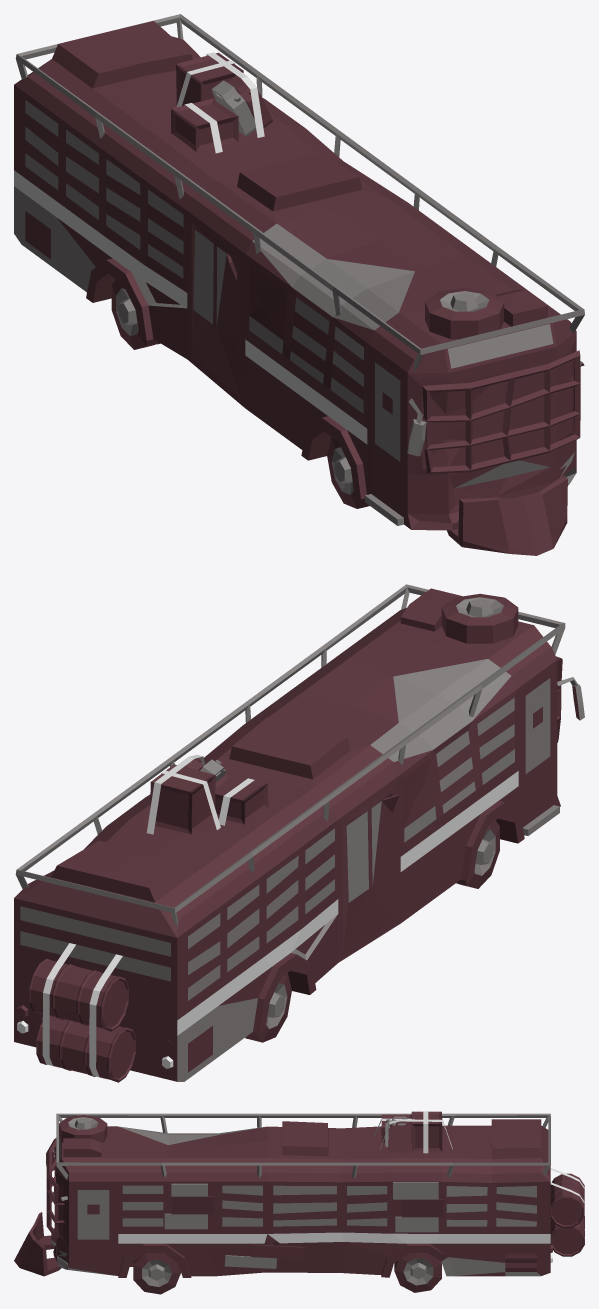
File: apocalypse-bus-passenger-apocalypse.glb
The picture shows the model from 3 angles, top to bottom: view 1: azimuth 30°, elevation 25°; view 2: azimuth 150°, elevation 25°; view 3: azimuth 270°, elevation 25°; orthographic projection. The views are drawn at different scales.
Visible parts, largest first — view 1: bus-passenger-apocalypse-base, bus-passenger-apocalypse-props, bus-passenger-apocalypse-wheel_BR, bus-passenger-apocalypse-wheel_FR; view 2: bus-passenger-apocalypse-base, bus-passenger-apocalypse-props, bus-passenger-apocalypse-wheel_BR, bus-passenger-apocalypse-wheel_FR; view 3: bus-passenger-apocalypse-base, bus-passenger-apocalypse-props, bus-passenger-apocalypse-wheel_FL, bus-passenger-apocalypse-wheel_BL.
Part boxes in pixels (box(x1,y1,x2,y2)): bus-passenger-apocalypse-base: box(14, 14, 584, 530); bus-passenger-apocalypse-props: box(171, 52, 580, 555); bus-passenger-apocalypse-wheel_BR: box(111, 279, 160, 349); bus-passenger-apocalypse-wheel_FR: box(327, 437, 369, 508); bus-passenger-apocalypse-base: box(14, 584, 584, 1081); bus-passenger-apocalypse-props: box(29, 593, 562, 1082); bus-passenger-apocalypse-wheel_BR: box(245, 973, 291, 1042); bus-passenger-apocalypse-wheel_FR: box(456, 820, 499, 888); bus-passenger-apocalypse-base: box(46, 1113, 552, 1277); bus-passenger-apocalypse-props: box(14, 1111, 584, 1276); bus-passenger-apocalypse-wheel_FL: box(133, 1253, 180, 1294); bus-passenger-apocalypse-wheel_BL: box(394, 1253, 441, 1292).
Bounding box in the file's own units: 2.97 × 3.86 × 12.66.
